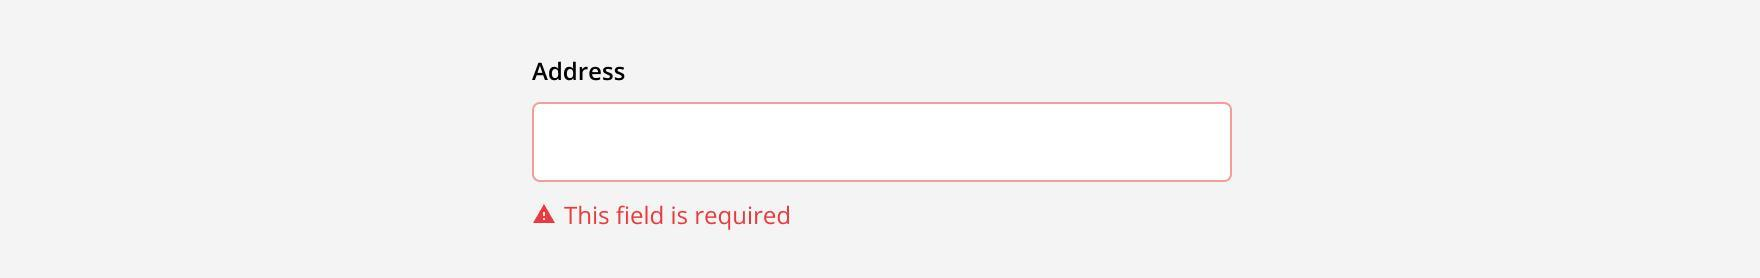icon: (533, 202, 561, 234)
input: (533, 103, 1232, 183)
label: (565, 204, 795, 235), (523, 56, 630, 90)
